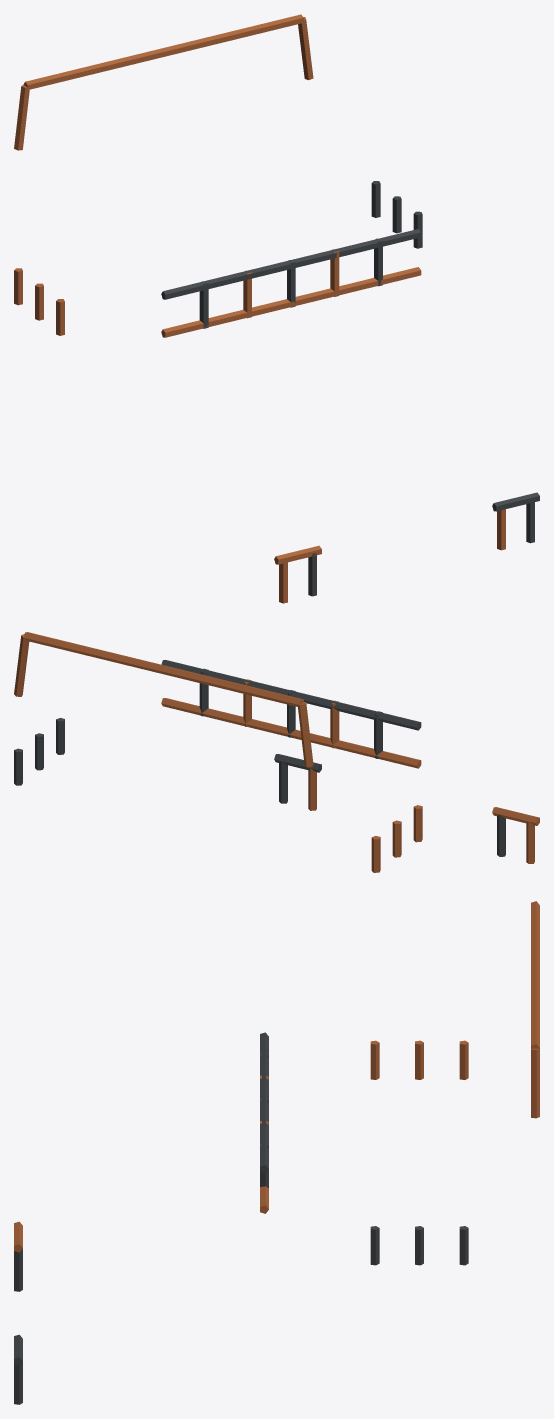
File: upg_cage_t5.glb
3 renders of one model, top to bottom at view 1: azimuth 30°, elevation 25°; view 2: azimuth 150°, elevation 25°; view 3: azimuth 270°, elevation 25°, orthographic. The views are drawn at different scales.
Parts seen in each view (by area): view 1: cage; view 2: cage; view 3: cage.
Boxes of the visible parts, x1=… form: cage: x1=14, y1=14, x2=539, y2=603; cage: x1=14, y1=632, x2=539, y2=872; cage: x1=14, y1=901, x2=539, y2=1404.
Bounding box in the file's own units: 2.51 × 2.27 × 2.95.
